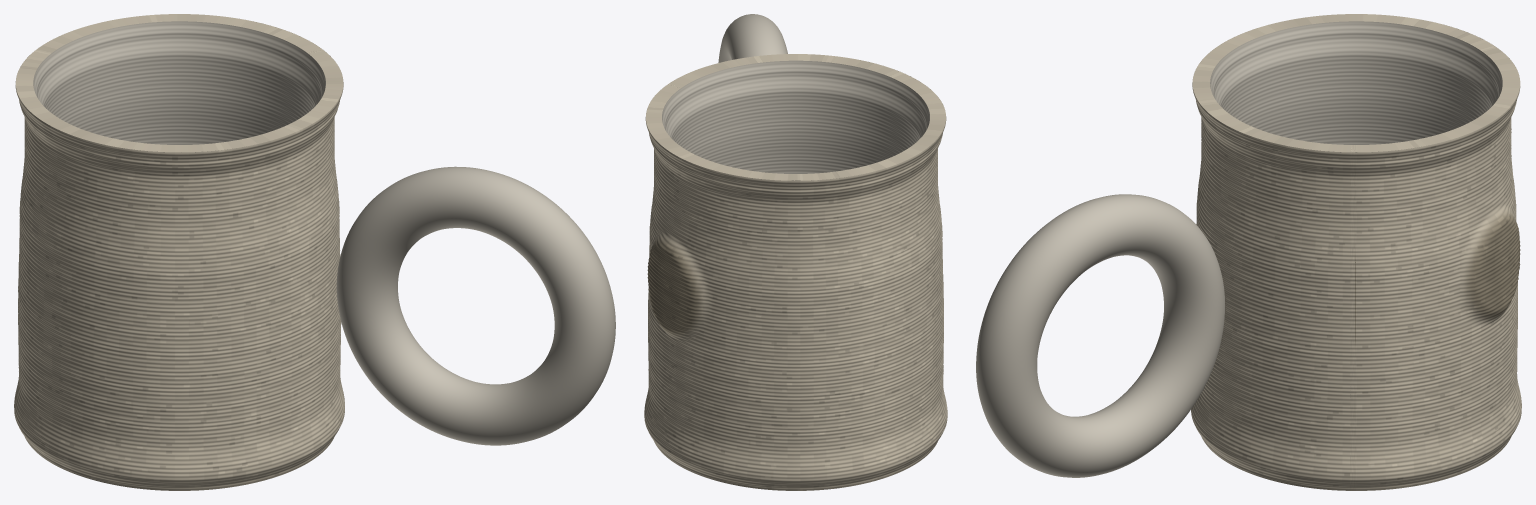
The model's file is cup-stone.glb.
3 renders of one model, left to right at view 1: azimuth 30°, elevation 25°; view 2: azimuth 150°, elevation 25°; view 3: azimuth 270°, elevation 25°, orthographic. The views are drawn at different scales.
Parts seen in each view (by area): view 1: outer-wall, handle, inner-wall, rim-cap; view 2: outer-wall, inner-wall, rim-cap, handle; view 3: outer-wall, handle, inner-wall, rim-cap.
Boxes of the visible parts, left/top/right/bottom form: outer-wall: left=14, top=52, right=344, bottom=490; handle: left=336, top=166, right=615, bottom=445; inner-wall: left=33, top=21, right=325, bottom=152; rim-cap: left=15, top=14, right=343, bottom=152; outer-wall: left=644, top=76, right=947, bottom=490; inner-wall: left=662, top=60, right=929, bottom=180; rim-cap: left=646, top=54, right=945, bottom=180; handle: left=718, top=14, right=787, bottom=62; outer-wall: left=1191, top=58, right=1521, bottom=490; handle: left=976, top=194, right=1224, bottom=477; inner-wall: left=1210, top=21, right=1502, bottom=152; rim-cap: left=1192, top=14, right=1520, bottom=152.
Bounding box in the file's own units: 0.1057 × 0.086 × 0.1248.
2 materials, 1 textured.
